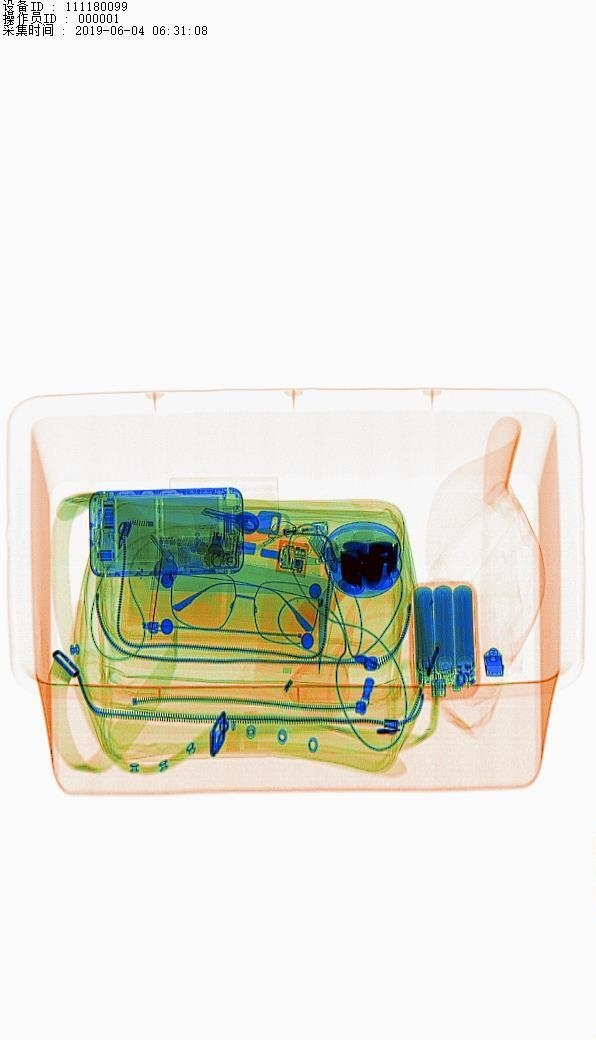NonmetallicFire: (233, 512, 347, 551)
